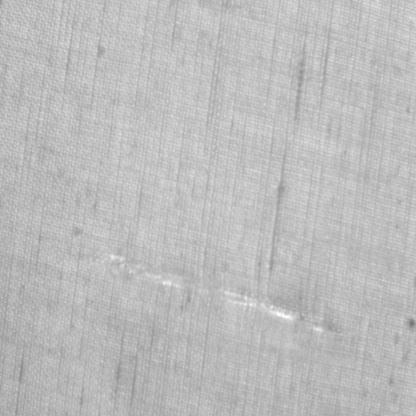thread error: (100, 250, 348, 336)
